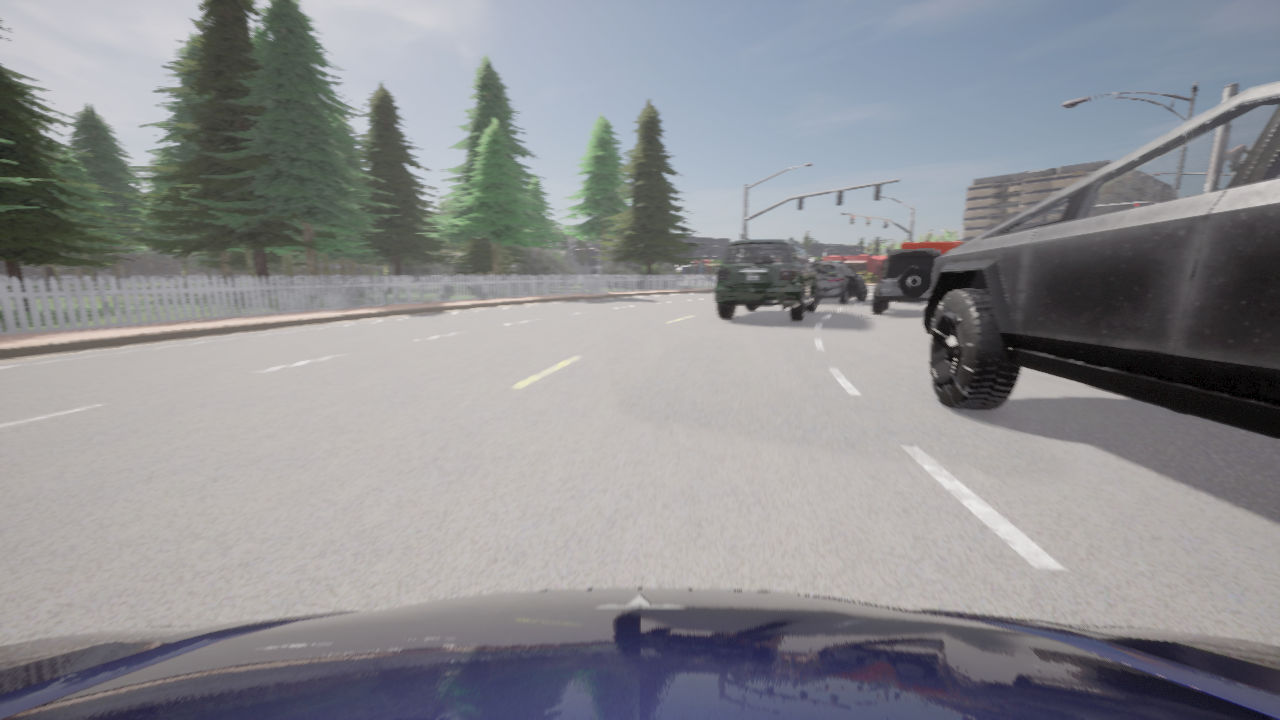cyclist: (0, 588, 1279, 719), (922, 81, 1279, 437), (715, 239, 820, 321), (872, 249, 940, 313), (812, 262, 867, 303), (900, 241, 964, 254)
